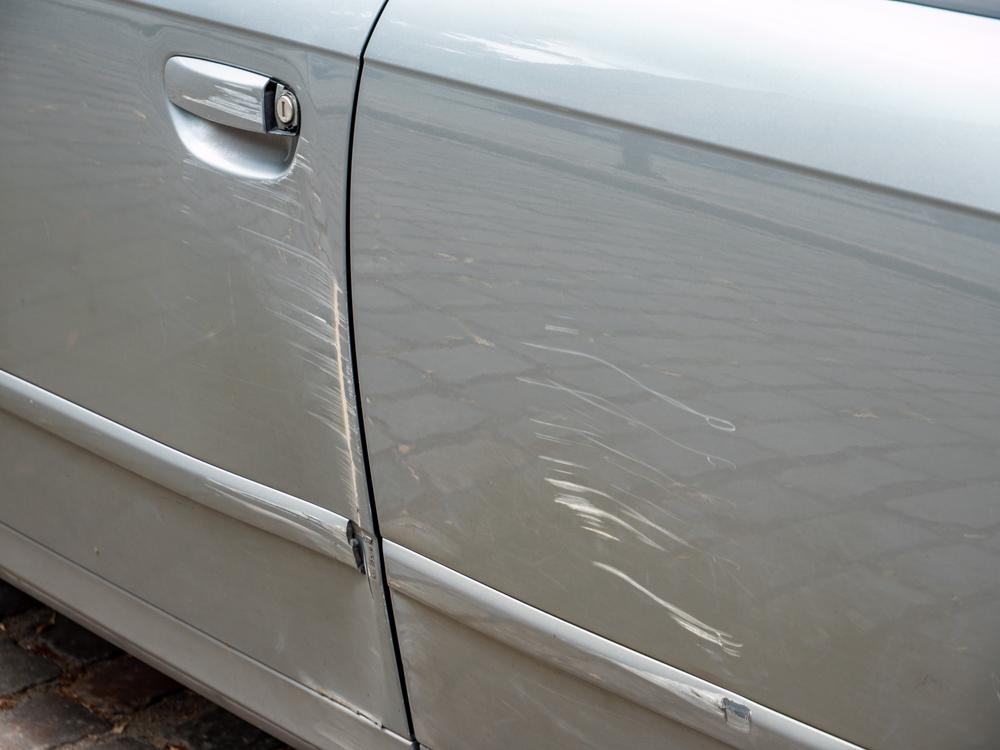scratch: (514, 319, 742, 670), (172, 135, 372, 528), (204, 480, 358, 561), (604, 658, 755, 736), (188, 69, 262, 125)
